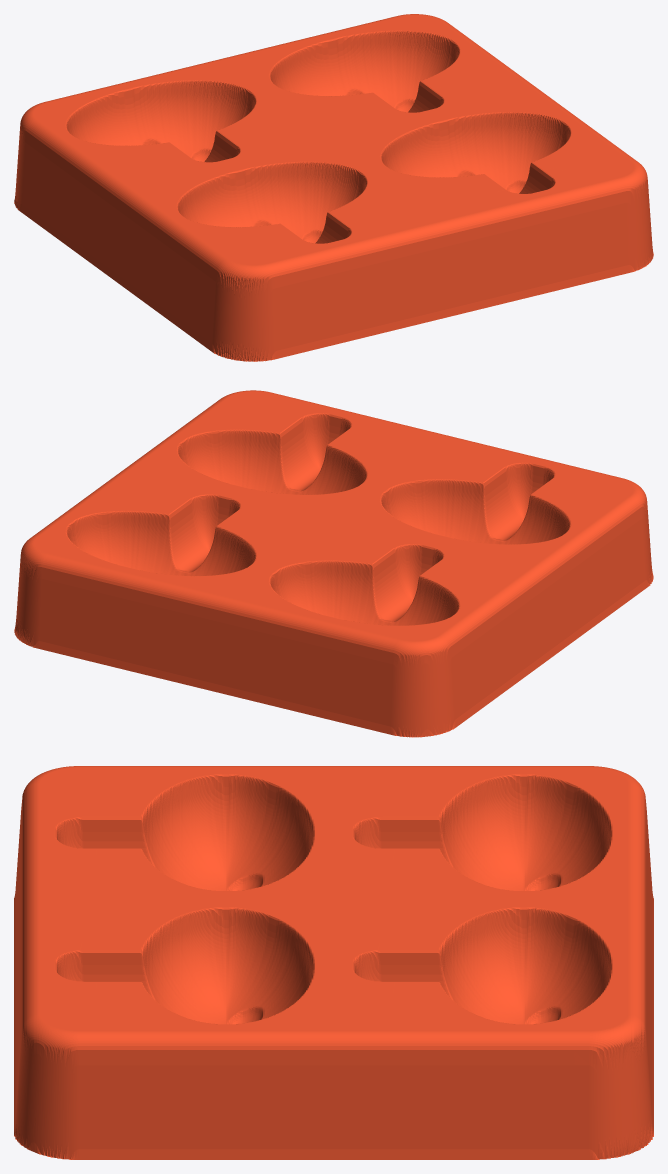
The model's file is mold.glb.
The picture shows the model from 3 angles, top to bottom: view 1: azimuth 30°, elevation 25°; view 2: azimuth 150°, elevation 25°; view 3: azimuth 270°, elevation 25°; orthographic projection. The views are drawn at different scales.
Parts seen in each view (by area): view 1: geometry_0; view 2: geometry_0; view 3: geometry_0.
Boxes of the visible parts, x1=… form: geometry_0: x1=14, y1=14, x2=653, y2=361; geometry_0: x1=14, y1=390, x2=653, y2=737; geometry_0: x1=14, y1=766, x2=653, y2=1159.
Size of the model in its own units: 0.0942 by 0.0182 by 0.0894.
